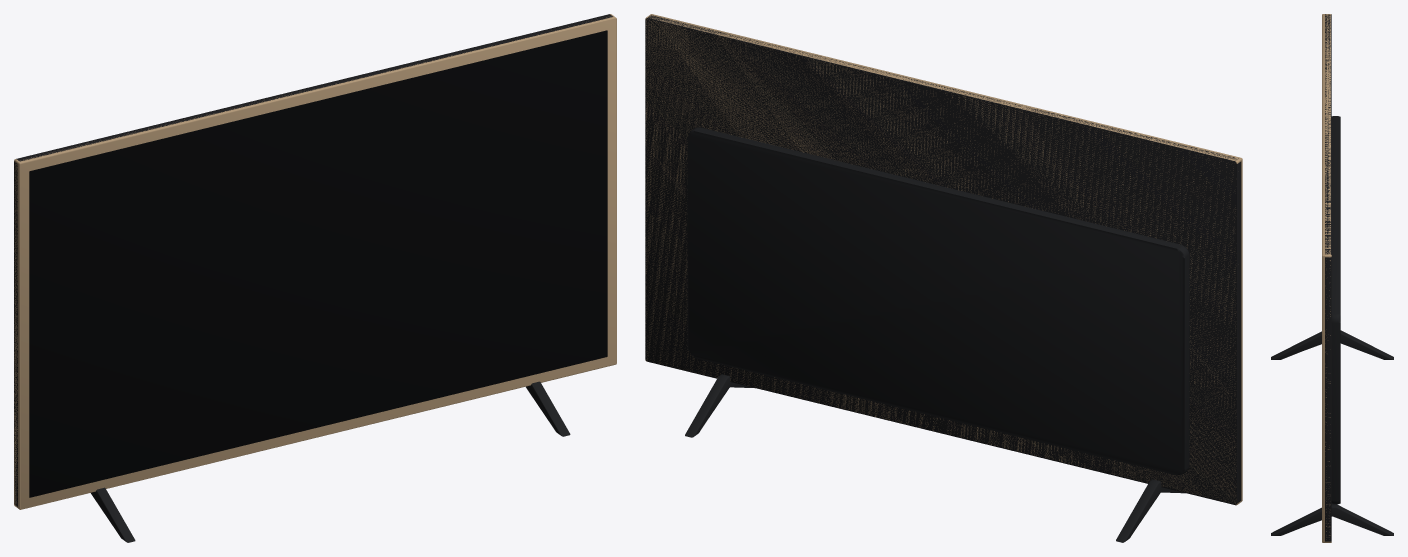
File: 65LX7BKNA.glb
3 renders of one model, left to right at view 1: azimuth 30°, elevation 25°; view 2: azimuth 150°, elevation 25°; view 3: azimuth 270°, elevation 25°, orthographic. The views are drawn at different scales.
Parts seen in each view (by area): view 1: 65LX7BKNA; view 2: 65LX7BKNA; view 3: 65LX7BKNA.
Part boxes in pixels (bbox=[...]): 65LX7BKNA: bbox=[14, 14, 616, 542]; 65LX7BKNA: bbox=[645, 14, 1242, 542]; 65LX7BKNA: bbox=[1271, 14, 1393, 542].
Size of the model in its own units: 1.47 by 0.882 by 0.315.
